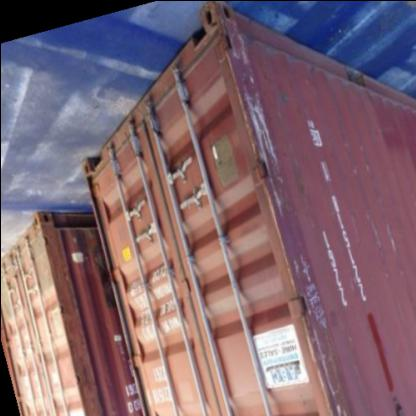Damage: (233, 90, 286, 208), (310, 332, 349, 410), (347, 146, 377, 182), (356, 206, 378, 245), (382, 222, 400, 260)
